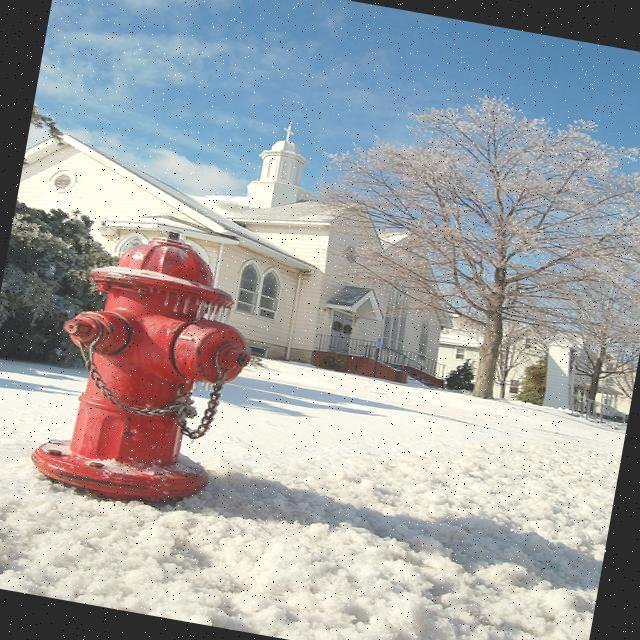fire_hydrant: (26, 212, 266, 518)
